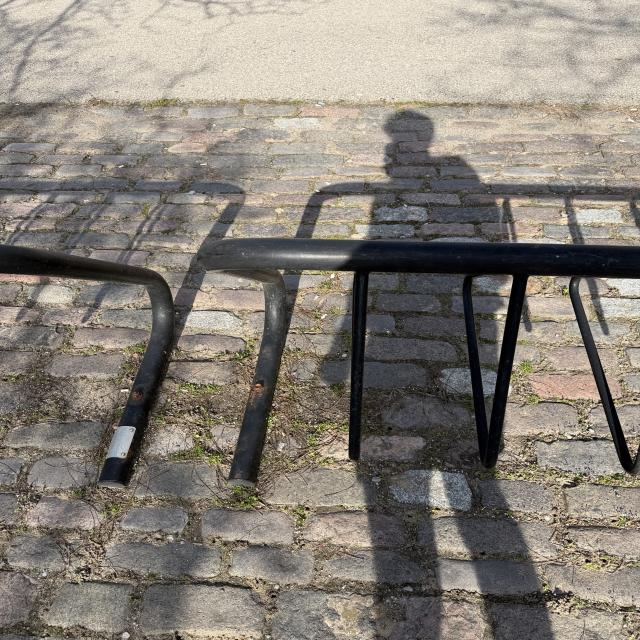Bicycle Rack: (214, 238, 640, 491), (0, 245, 173, 499)
